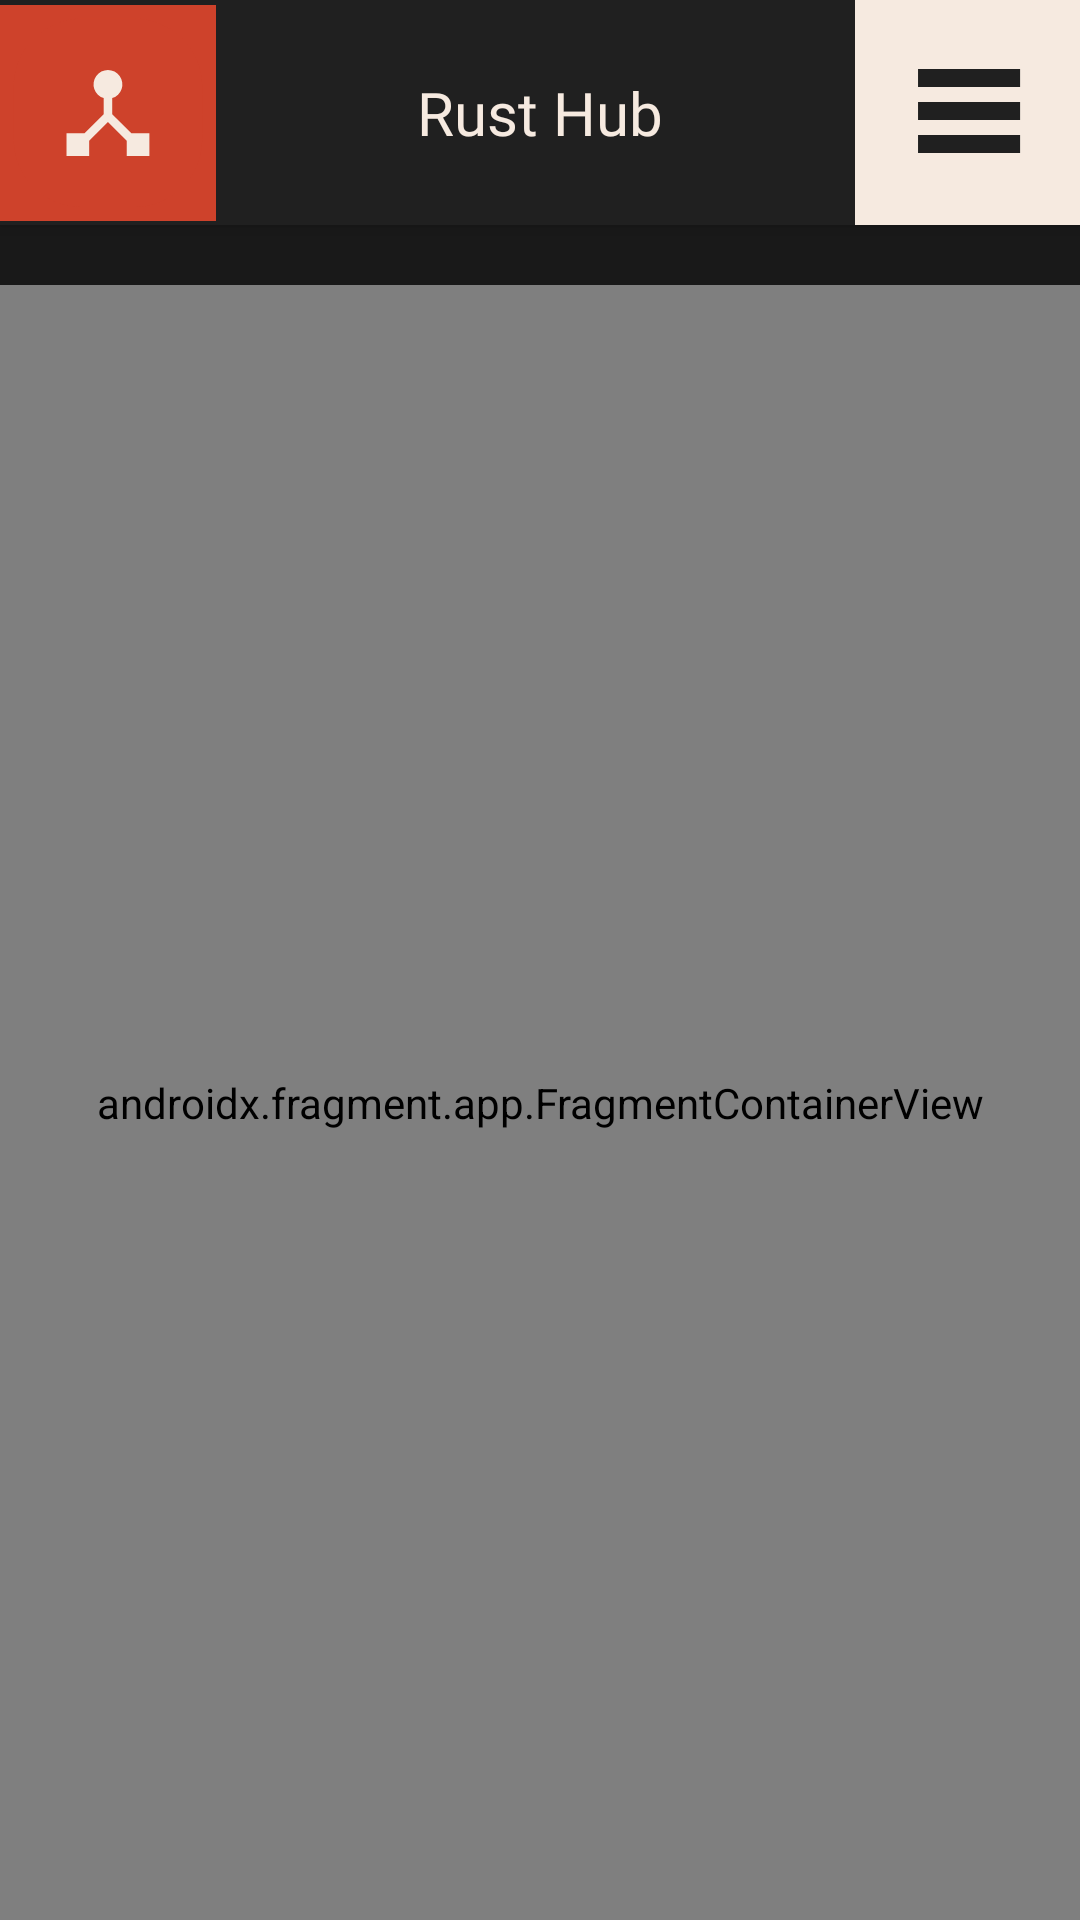

Screen size 1080x1920. Icon name, then its center in pixels as [x,y]:
Navigation icon on the top right hand side: [967,112]
